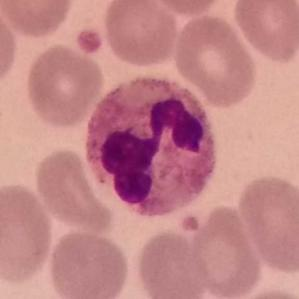Neutrophil: (80, 72, 221, 220)
Platelets: (74, 22, 105, 55), (179, 206, 205, 234)
RBC: (171, 12, 260, 108), (186, 202, 266, 299), (31, 146, 117, 234), (23, 42, 105, 128), (236, 171, 299, 274), (45, 227, 131, 299), (0, 182, 56, 284), (133, 227, 210, 299), (101, 1, 180, 68), (230, 0, 299, 64), (0, 0, 75, 39), (0, 3, 20, 90), (150, 0, 228, 17)
